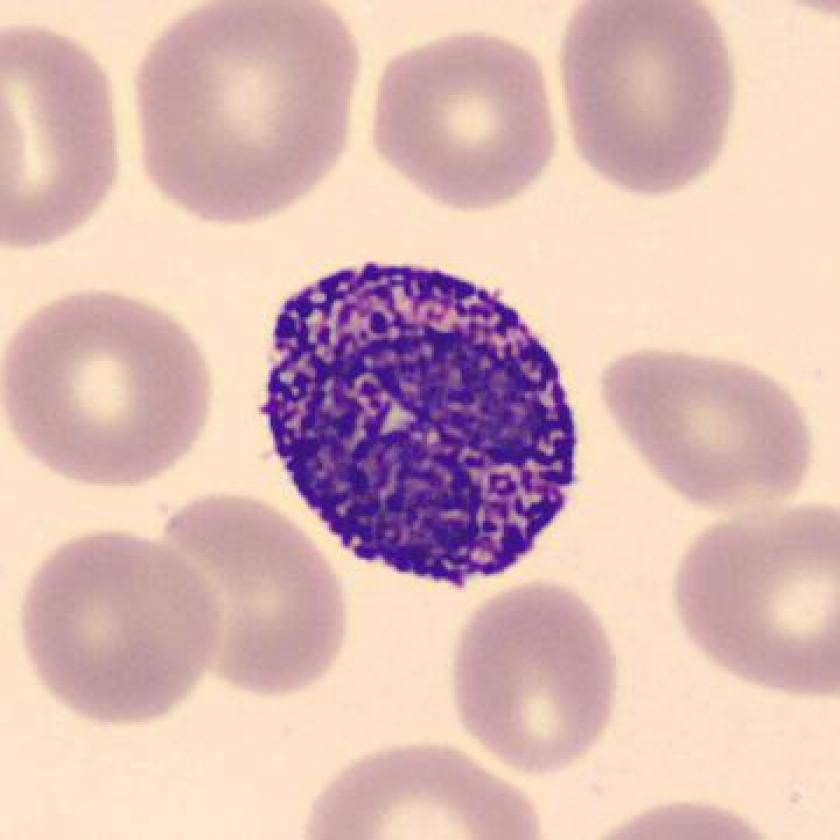basophil: (258, 254, 610, 594)
